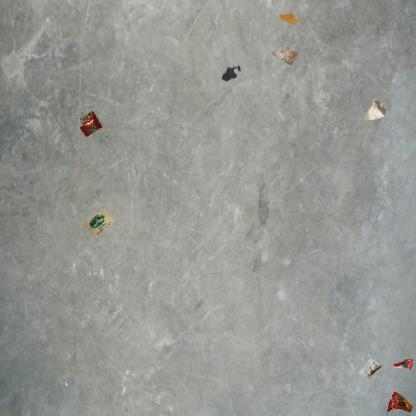dirty: (81, 206, 116, 240), (77, 108, 105, 140), (270, 43, 303, 68), (359, 96, 388, 123), (385, 389, 415, 415), (358, 357, 382, 381), (392, 356, 416, 373)
liquid: (220, 64, 242, 82), (280, 12, 300, 24)
